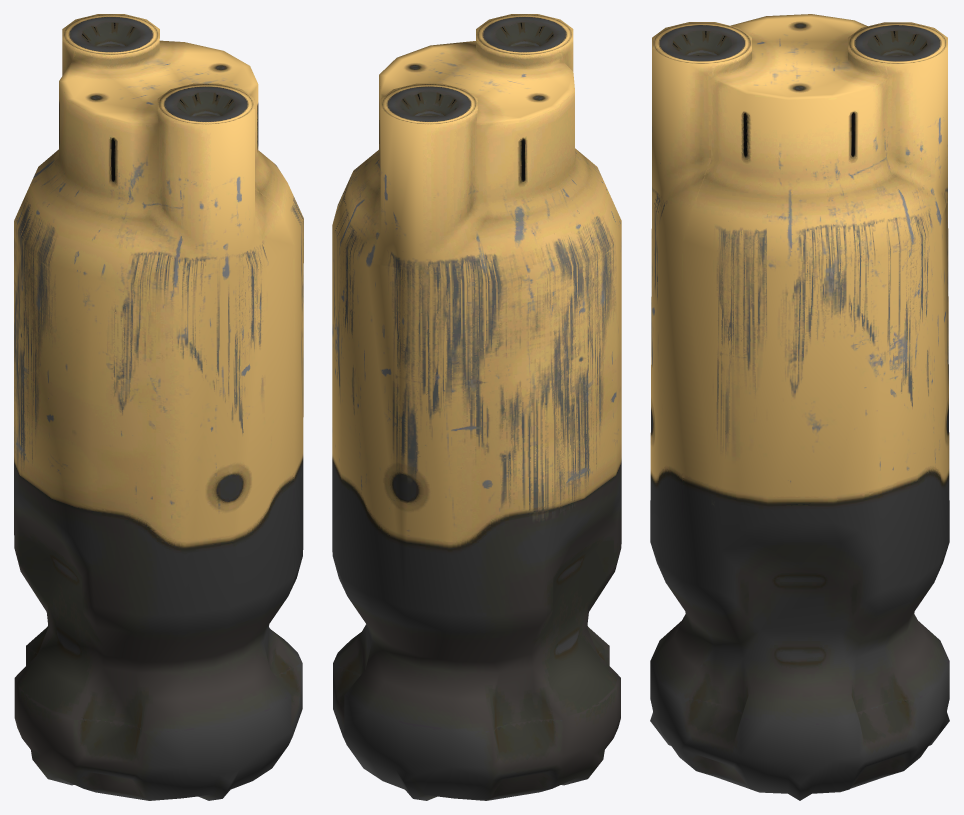
Rendered from FusionCore.obj.
3 views of the same model, side by side, from view 1: azimuth 30°, elevation 25°; view 2: azimuth 150°, elevation 25°; view 3: azimuth 270°, elevation 25° (orthographic). The views are drawn at different scales.
Visible parts, largest first — view 1: FusionCore01:0; view 2: FusionCore01:0; view 3: FusionCore01:0.
Boxes of the visible parts, box(x1,y1,x2,y2) form: FusionCore01:0: box(14, 14, 303, 800); FusionCore01:0: box(332, 14, 621, 800); FusionCore01:0: box(650, 14, 949, 800).
Bounding box in the file's own units: 5.42 × 14.28 × 5.42.
